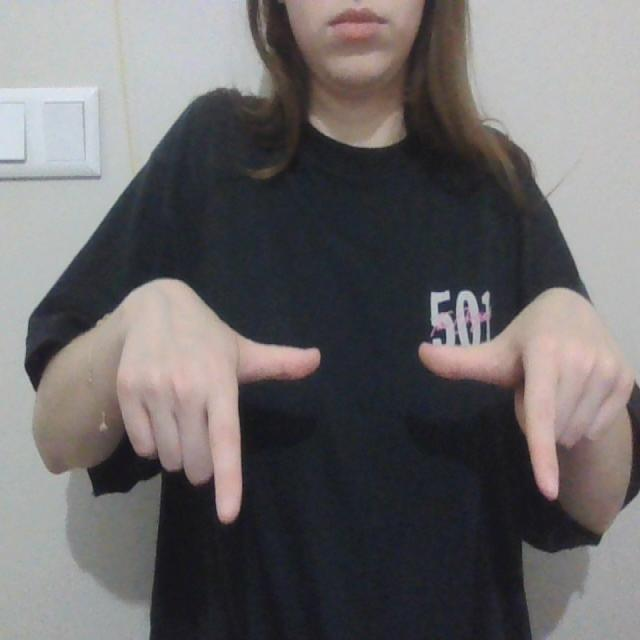Nerede: (202, 311, 563, 529)
